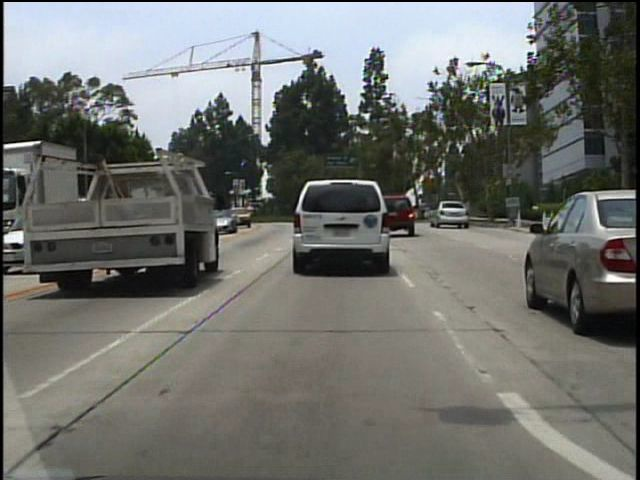person: (416, 196, 430, 221)
